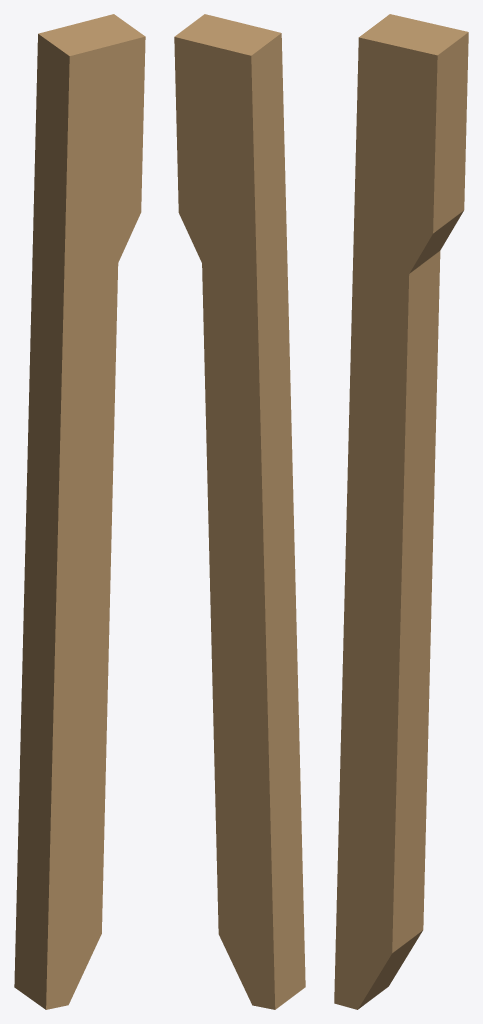
Rendered from original-9.obj.
3 views of the same model, side by side, from view 1: azimuth 30°, elevation 25°; view 2: azimuth 150°, elevation 25°; view 3: azimuth 330°, elevation 25° (orthographic). The views are drawn at different scales.
Visible parts, largest first — view 1: mesh37/mesh37-geometry#mesh37-geometry; view 2: mesh37/mesh37-geometry#mesh37-geometry; view 3: mesh37/mesh37-geometry#mesh37-geometry.
Boxes of the visible parts, x1,y1,x2,y2 form: mesh37/mesh37-geometry#mesh37-geometry: [14, 14, 145, 1009]; mesh37/mesh37-geometry#mesh37-geometry: [174, 14, 305, 1009]; mesh37/mesh37-geometry#mesh37-geometry: [334, 14, 468, 1009].
Bounding box in the file's own units: 0.0289 × 0.2604 × 0.0158.
